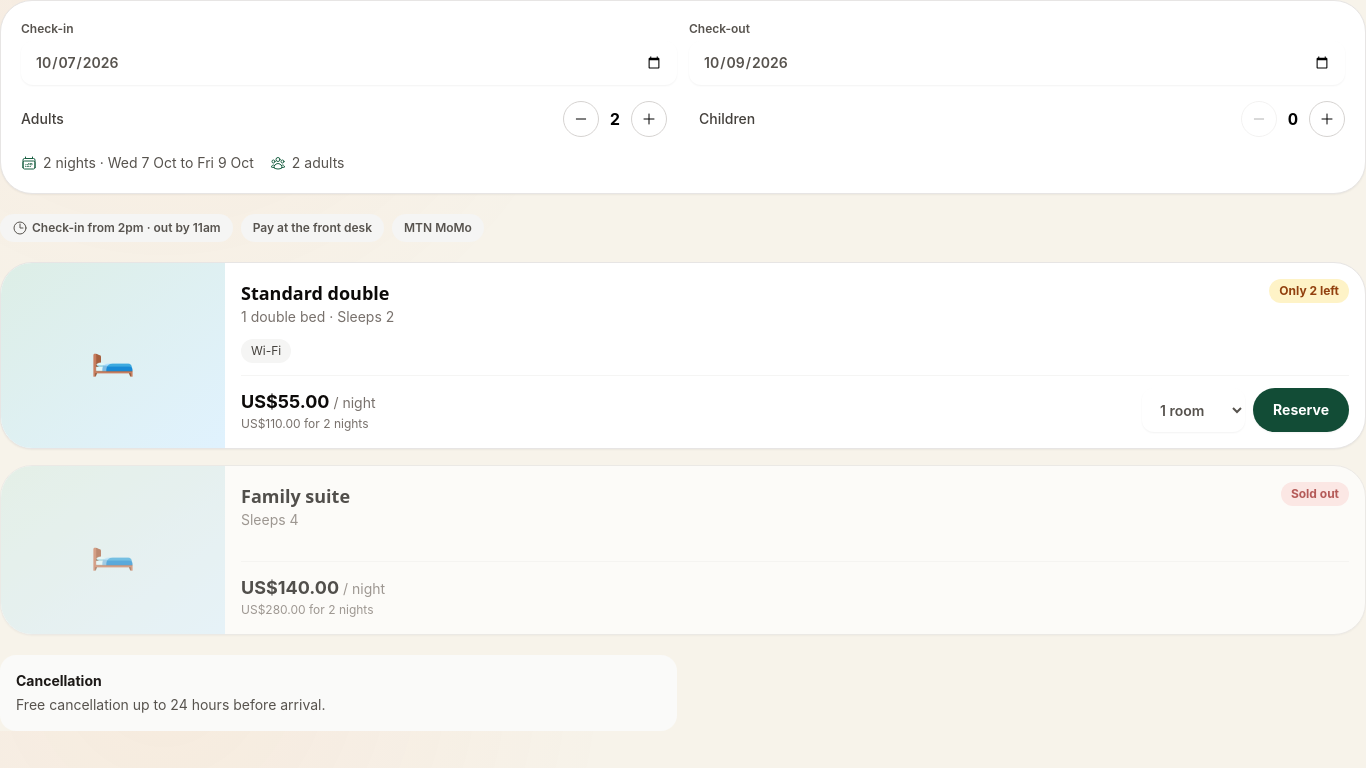
StayBooking › asks for more rooms when the party is too big for one
expect the text "Only 2 left" is shown: met, box [1269,279,1349,303]
Click the button named "More adults": {"x": 649, "y": 119} [631,101,667,137]
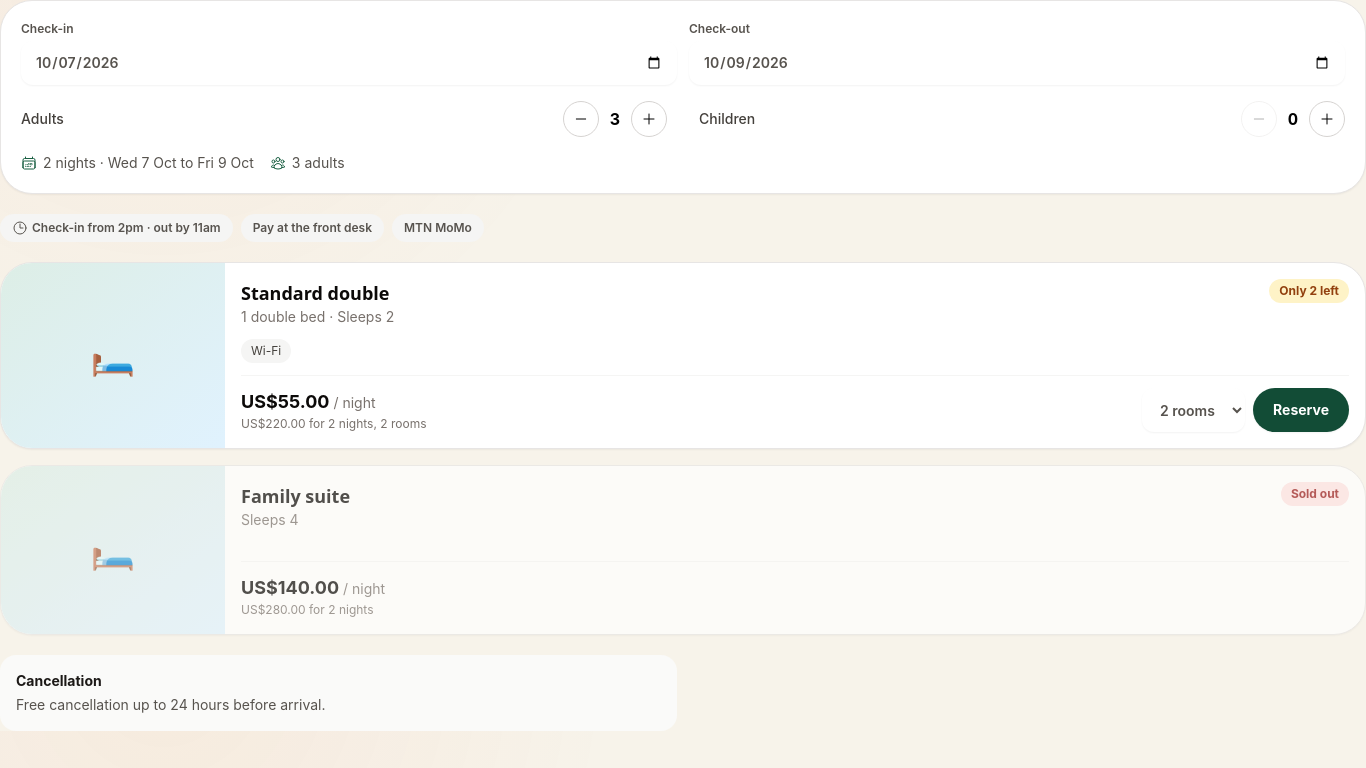
expect the button "Reserve" is enabled: met, box [1253,388,1349,432]
expect the dropdown shows "2 rooms": met, box [1142,388,1245,432]
